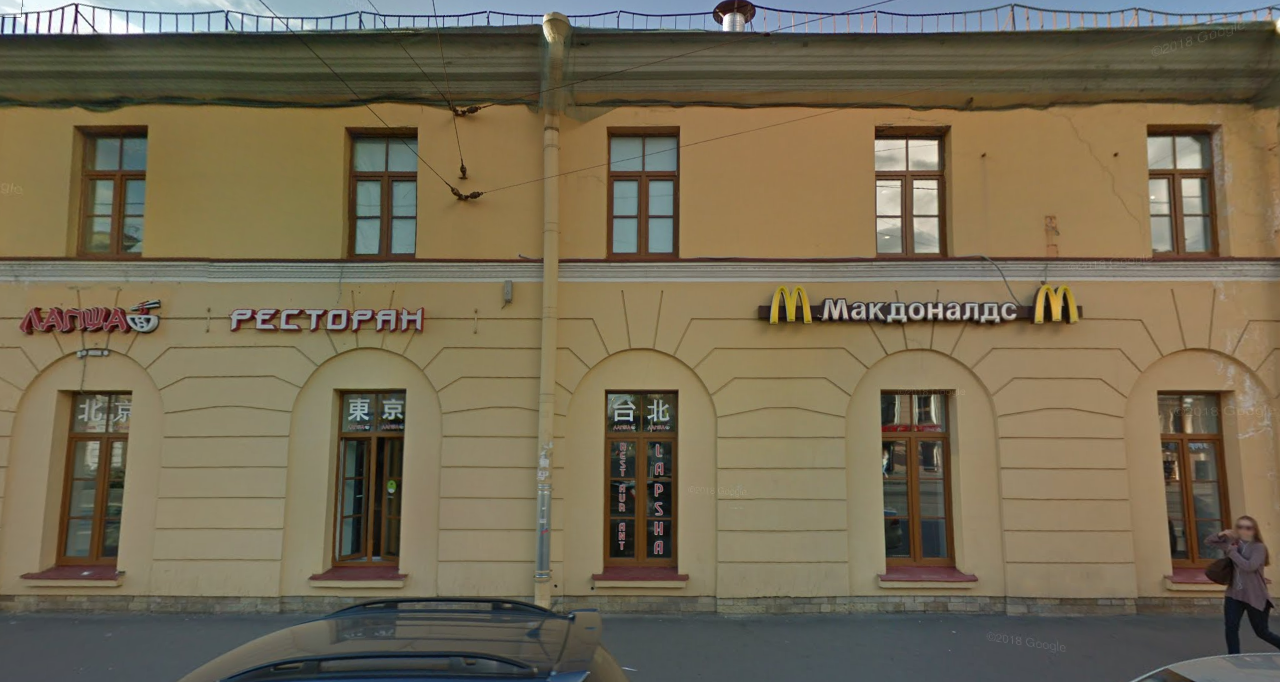signboard: (749, 275, 1094, 344), (223, 303, 432, 340), (16, 290, 169, 336)
window: (32, 390, 135, 581), (320, 391, 407, 585), (1155, 388, 1236, 582), (602, 388, 678, 583), (883, 389, 954, 584), (72, 126, 153, 253), (1149, 130, 1223, 263), (607, 126, 680, 259), (345, 129, 416, 260), (878, 131, 945, 259)
